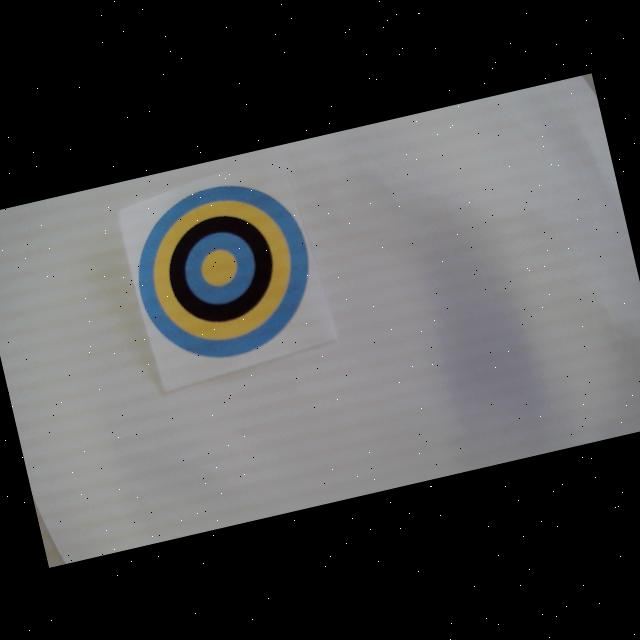COGNITIVE: (120, 168, 327, 375)
